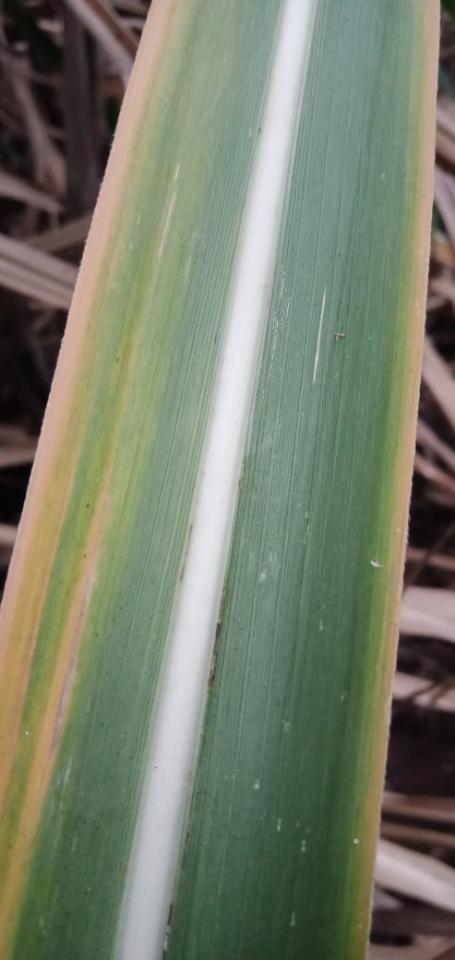Rust: (203, 621, 224, 697), (178, 522, 194, 583), (165, 901, 175, 928), (162, 948, 168, 959), (257, 127, 262, 134)
Yellow: (0, 0, 175, 805), (353, 0, 440, 959), (0, 455, 109, 959)
